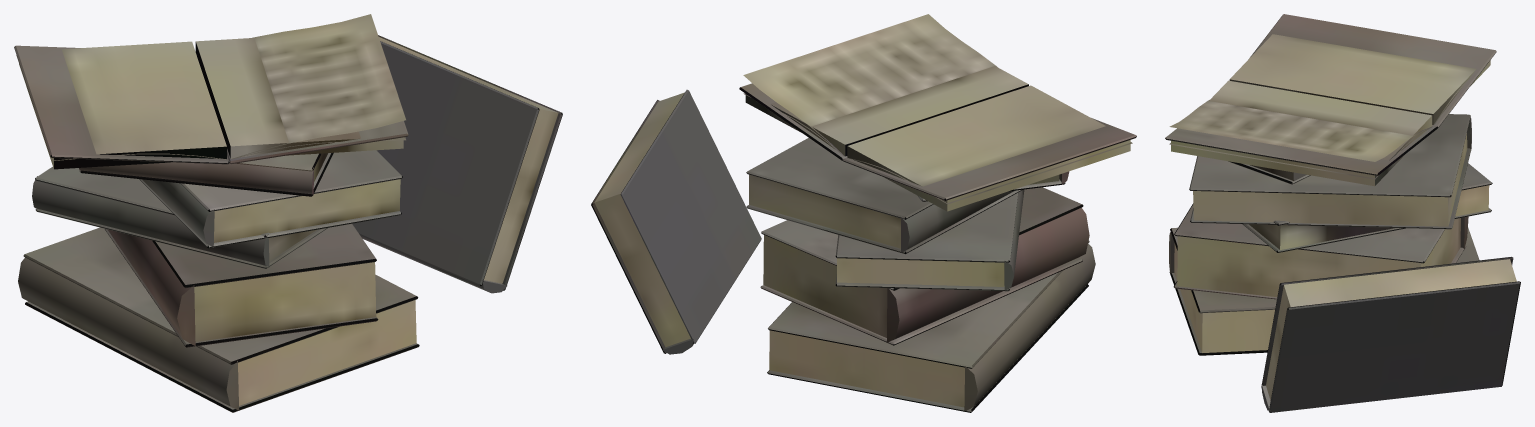
File: dressing_books_pile.glb
3 renders of one model, left to right at view 1: azimuth 30°, elevation 25°; view 2: azimuth 150°, elevation 25°; view 3: azimuth 270°, elevation 25°, orthographic. The views are drawn at different scales.
Visible parts, largest first — view 1: dressing_books_pile; view 2: dressing_books_pile; view 3: dressing_books_pile.
Part boxes in pixels (left/top/right/bottom): dressing_books_pile: left=14, top=14, right=562, bottom=412; dressing_books_pile: left=591, top=14, right=1136, bottom=412; dressing_books_pile: left=1165, top=14, right=1520, bottom=412.
Bounding box in the file's own units: 0.4736 × 0.2247 × 0.3237.
1 material, 1 textured.
